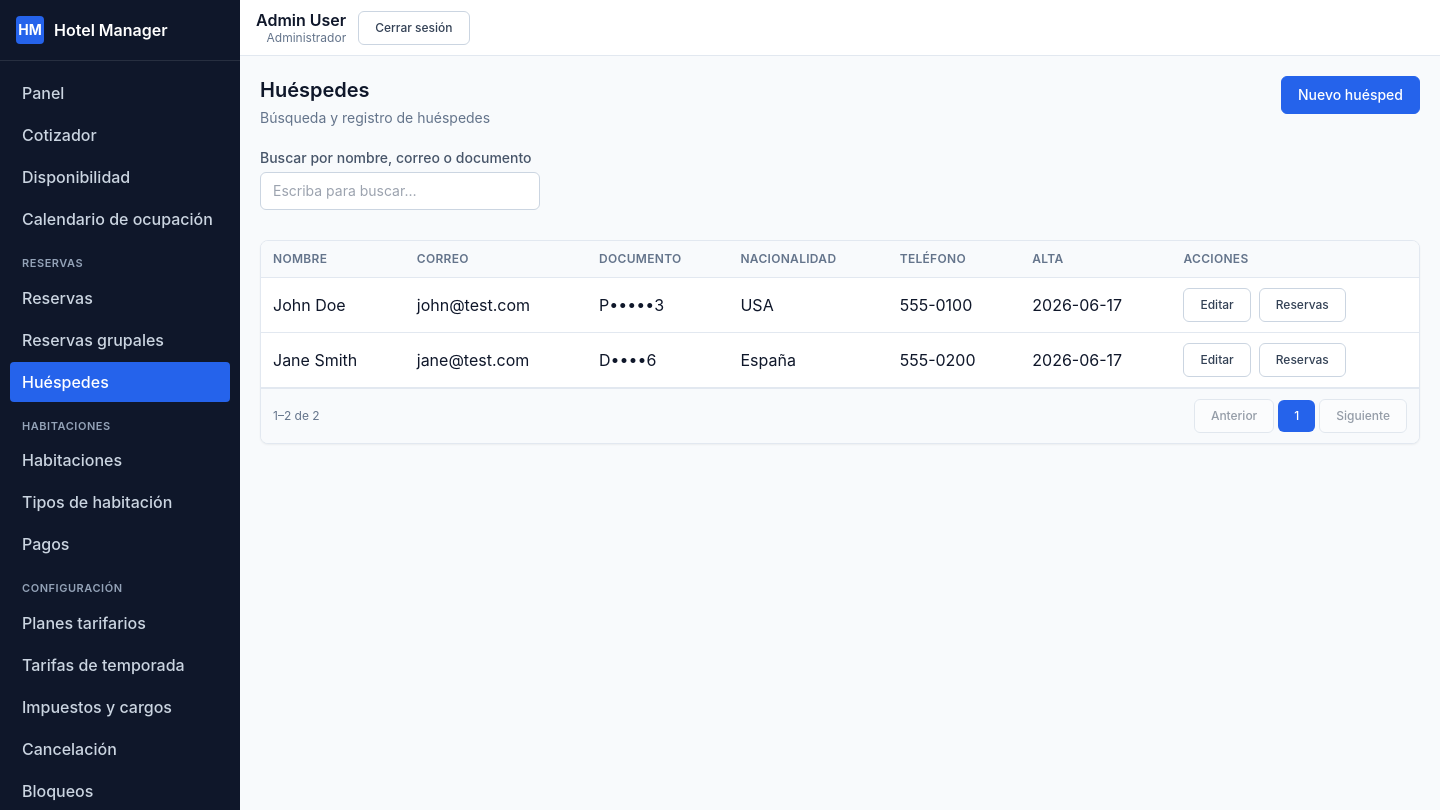
Test: GuestsPage › crea un huésped nuevo
Expected: the text "John Doe" is shown, [261,278,405,332]
Click the button "Nuevo huésped" at x=1350, y=95, box [1281,76,1420,114]
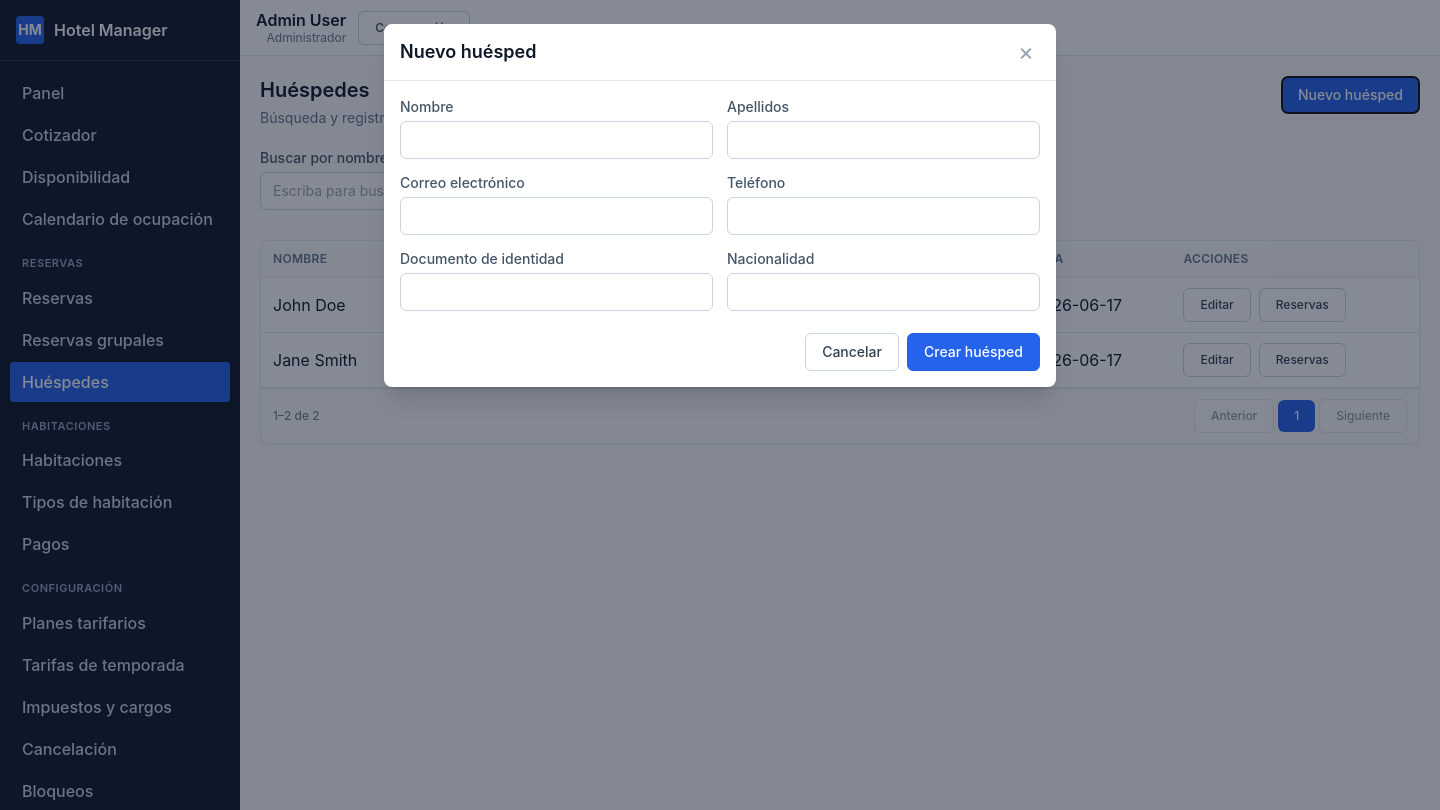
Expected: the heading "Nuevo huésped" is shown, [400,38,536,66]
Type "Carlos" into the field labelled "Nombre" at x=556, y=140, box [400,121,713,159]
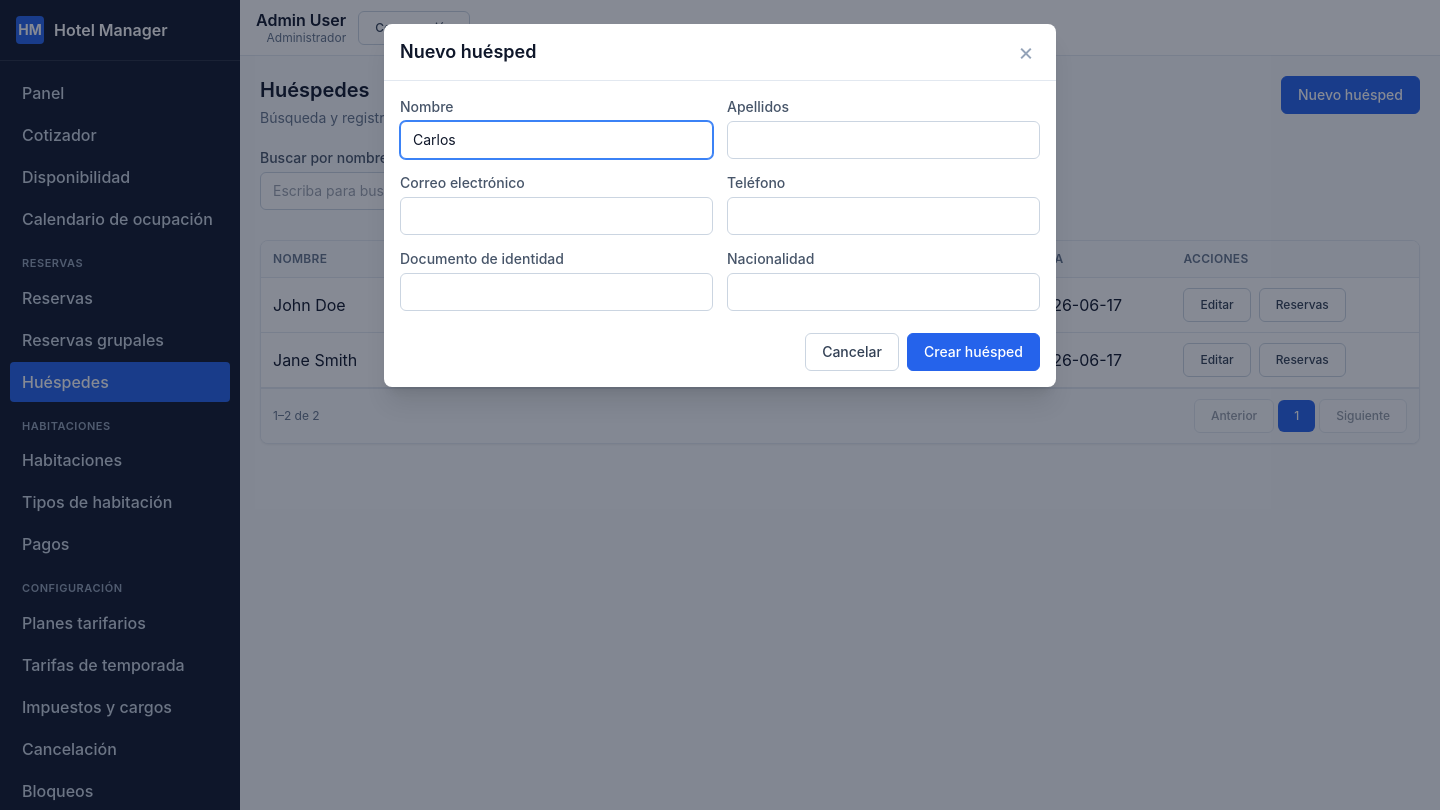
Type "Ruiz" into the field labelled "Apellidos" at x=884, y=140, box [727,121,1040,159]
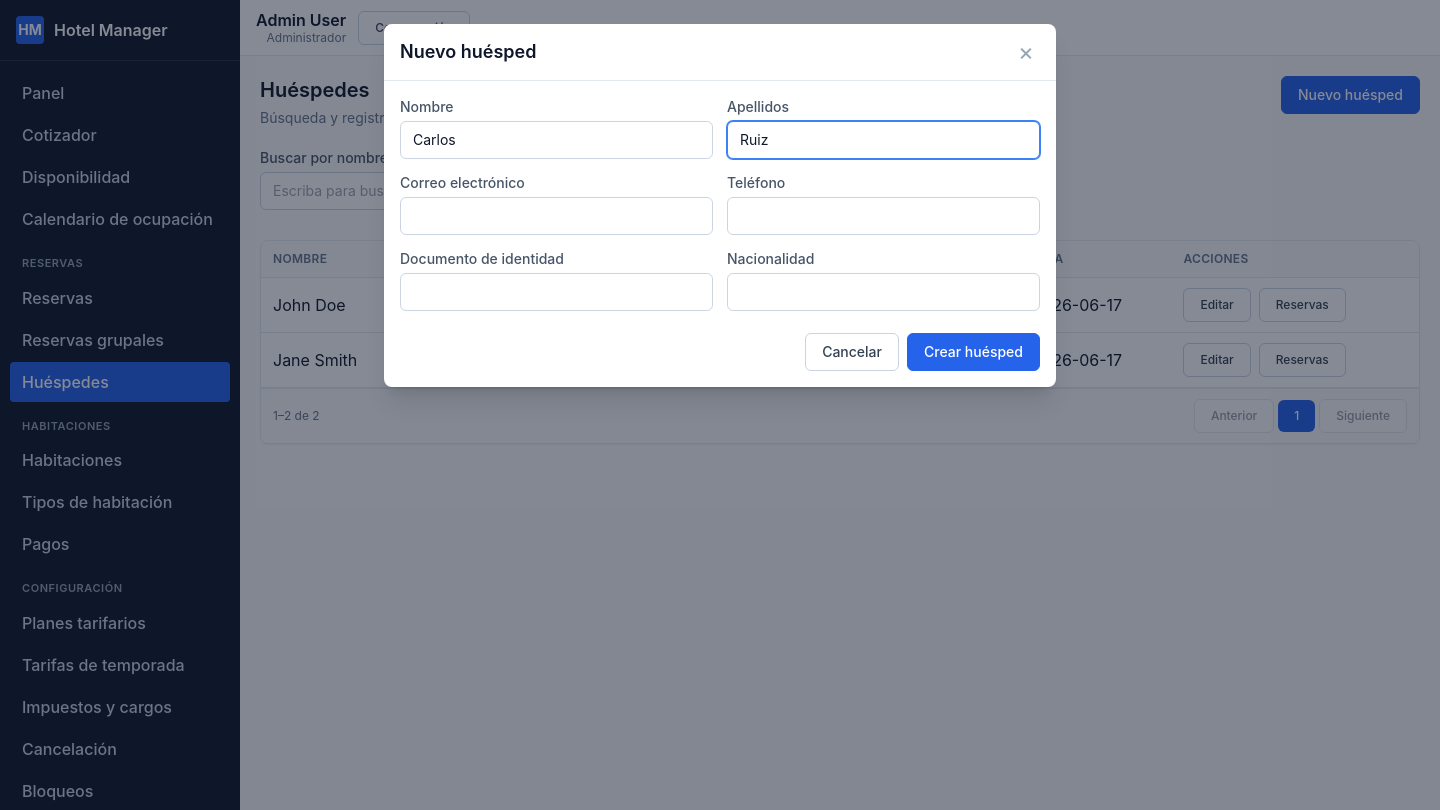
Type "CAR999" into the field labelled "Documento de identidad" at x=556, y=292, box [400,273,713,311]
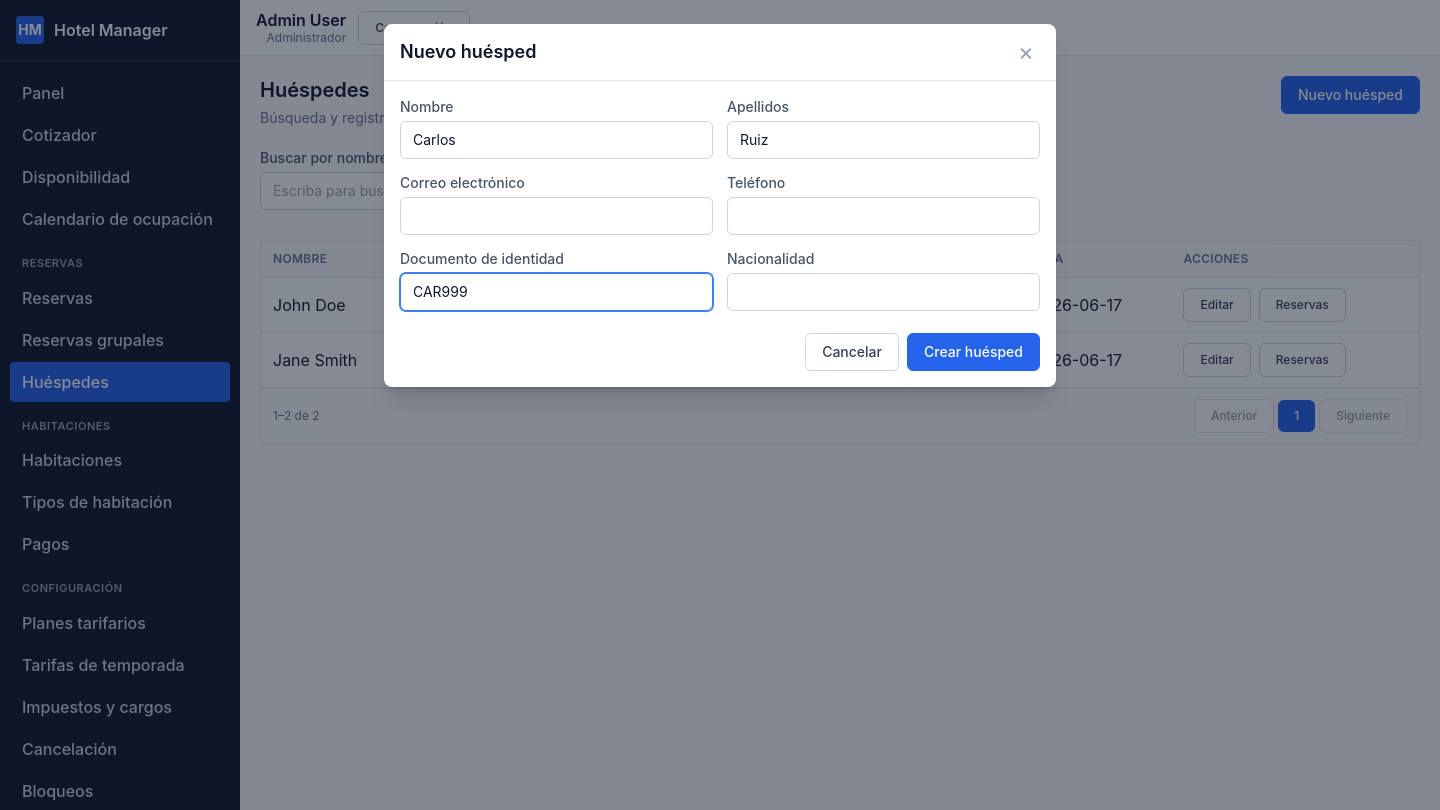
Type "Colombia" into the field labelled "Nacionalidad" at x=884, y=292, box [727,273,1040,311]
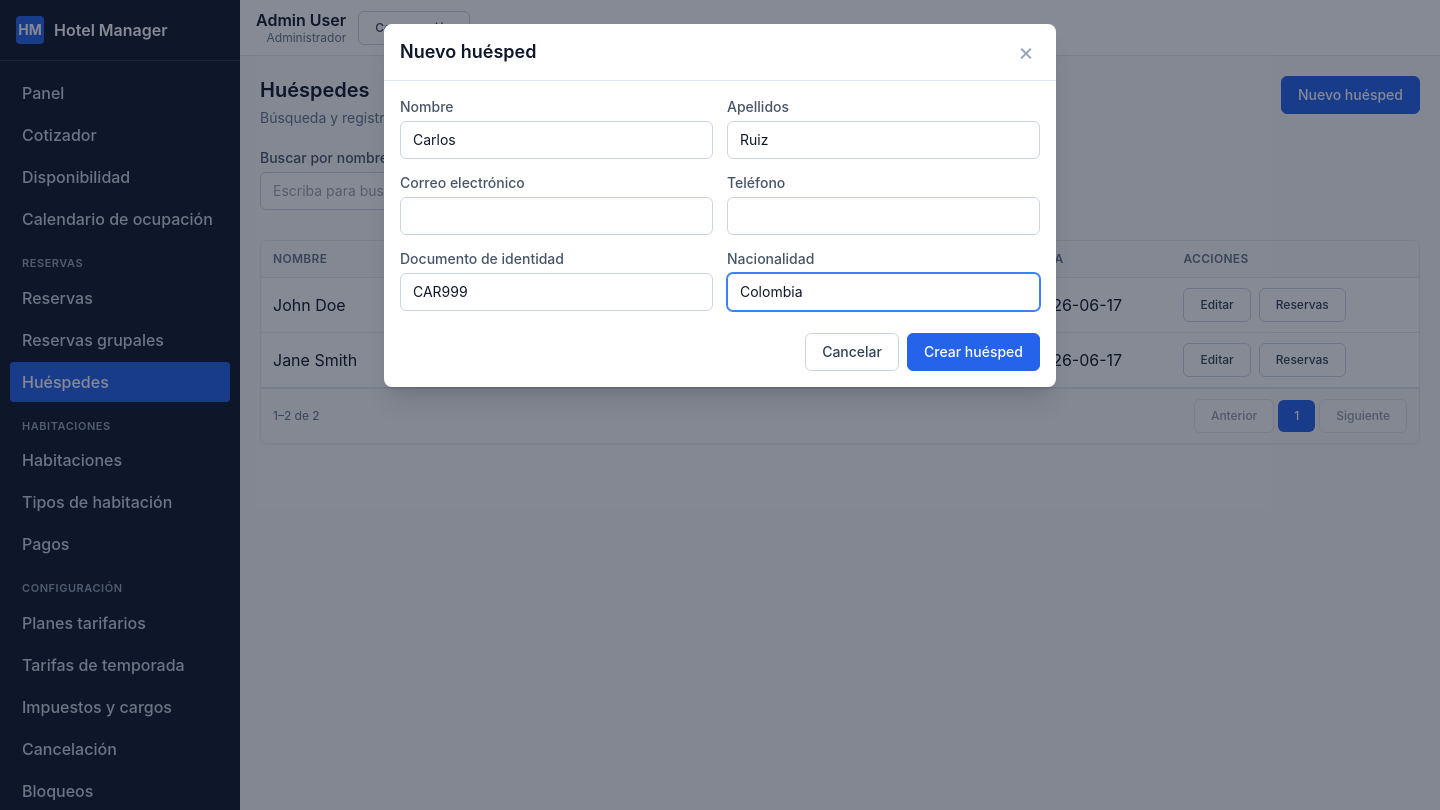
Click the button "Crear huésped" at x=974, y=352, box [907,333,1040,371]
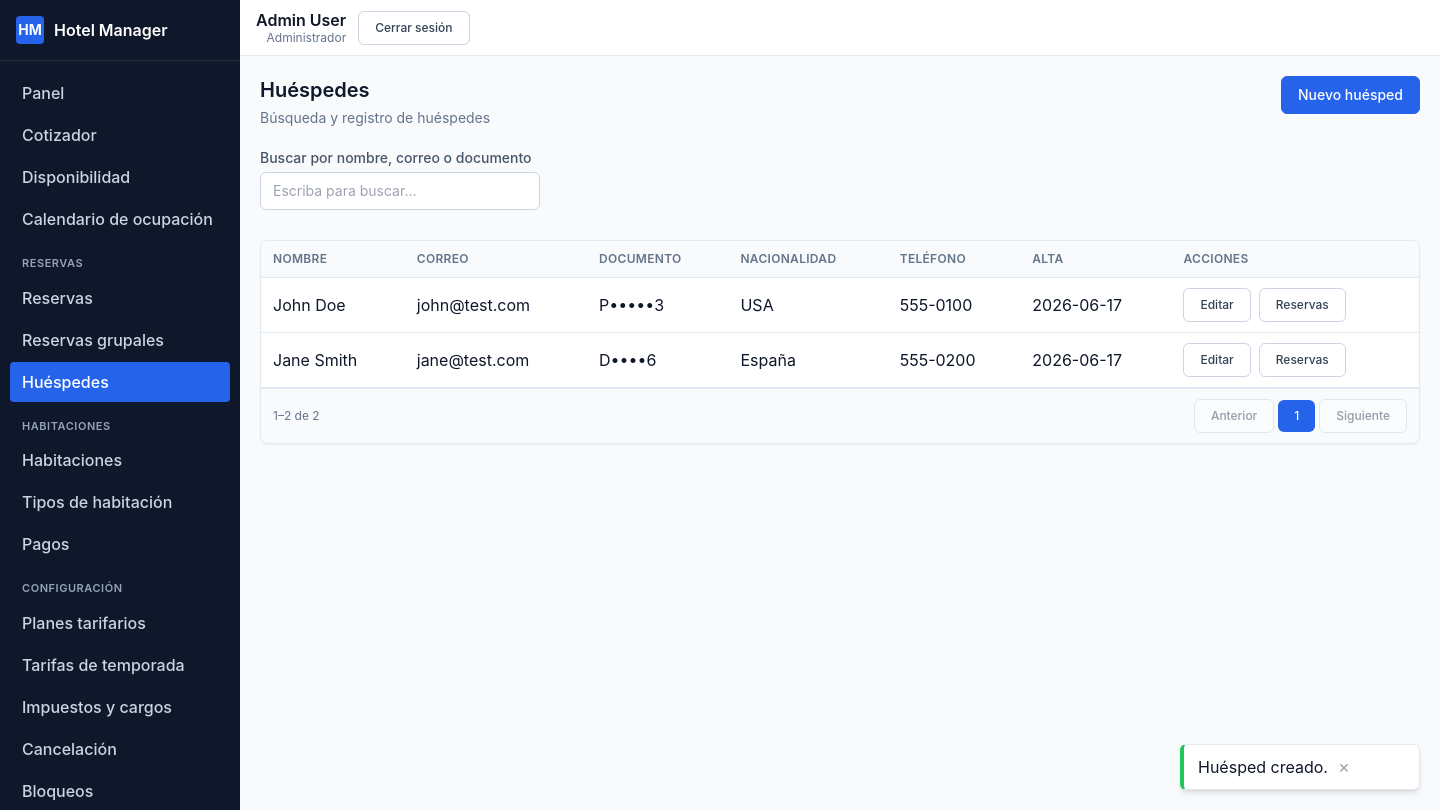
Expected: the text "Huésped creado." is shown, [1198,755,1328,779]
